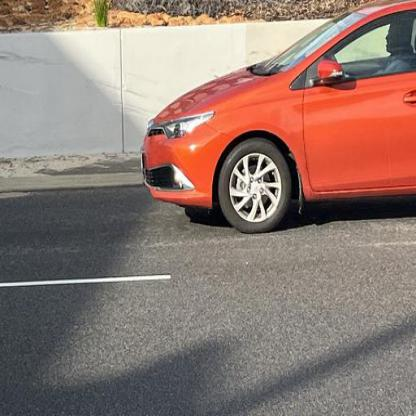Tire: (217, 138, 292, 234)
